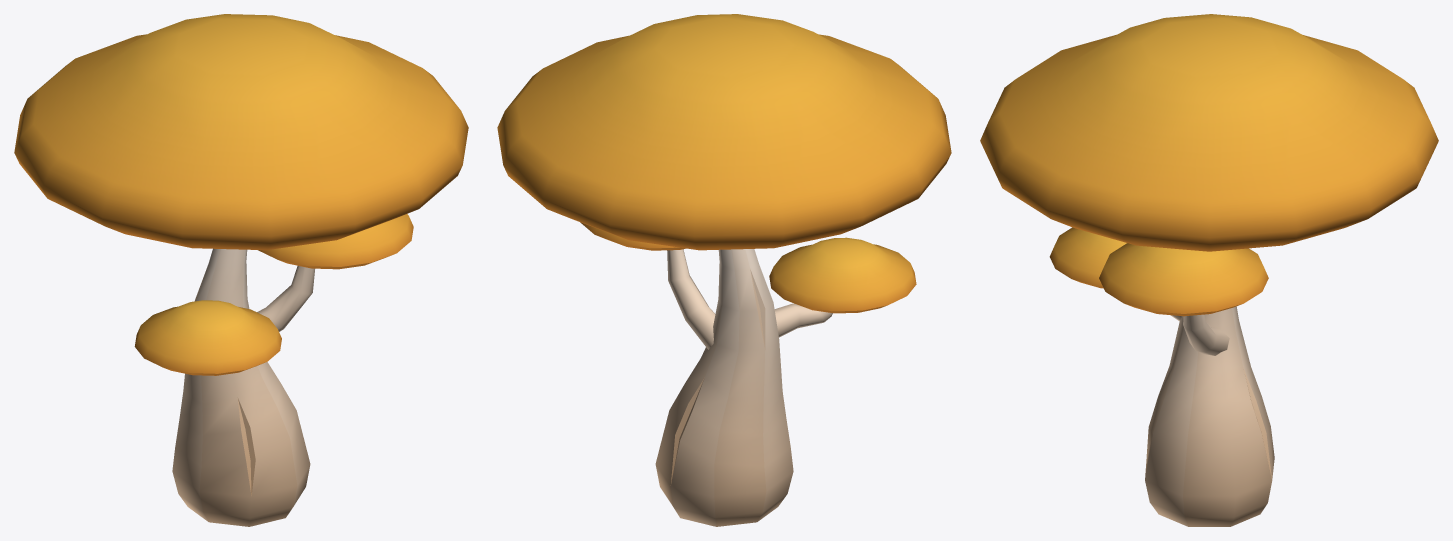
File: Tree_3_A_Color5.fbx
3 renders of one model, left to right at view 1: azimuth 30°, elevation 25°; view 2: azimuth 150°, elevation 25°; view 3: azimuth 270°, elevation 25°, orthographic.
Parts seen in each view (by area): view 1: Tree_3_A_Color5; view 2: Tree_3_A_Color5; view 3: Tree_3_A_Color5.
Boxes of the visible parts, <box> form: Tree_3_A_Color5: <box>14,14,468,526</box>; Tree_3_A_Color5: <box>497,14,951,526</box>; Tree_3_A_Color5: <box>980,14,1438,526</box>.
Size of the model in its own units: 3.09 by 3.51 by 3.09.
